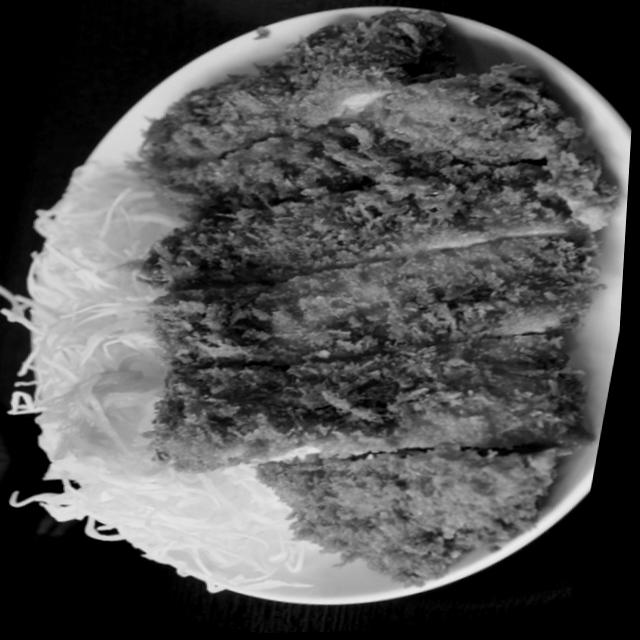鸡肉料理 含炸鸡: (80, 0, 640, 614)
